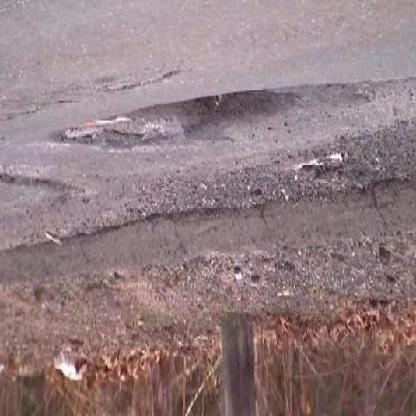pothole: (54, 87, 297, 156)
